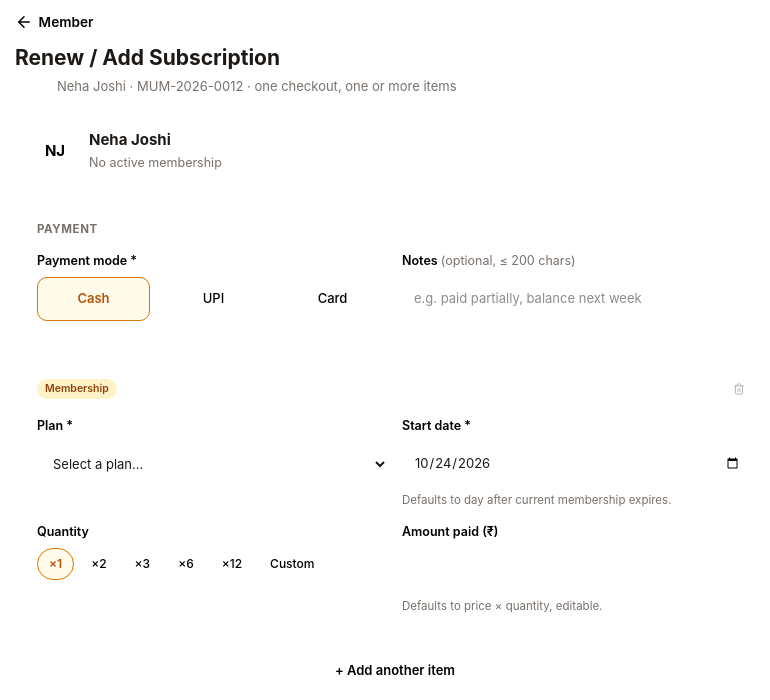
Scenario: RenewSubscriptionPage — an item › a quantity preset recalculates the amount and the end date
Step 1. Select "Monthly · 30 days · ₹1,500" in the dropdown labelled "Plan *" → (212, 464), box [37,442,388,486]
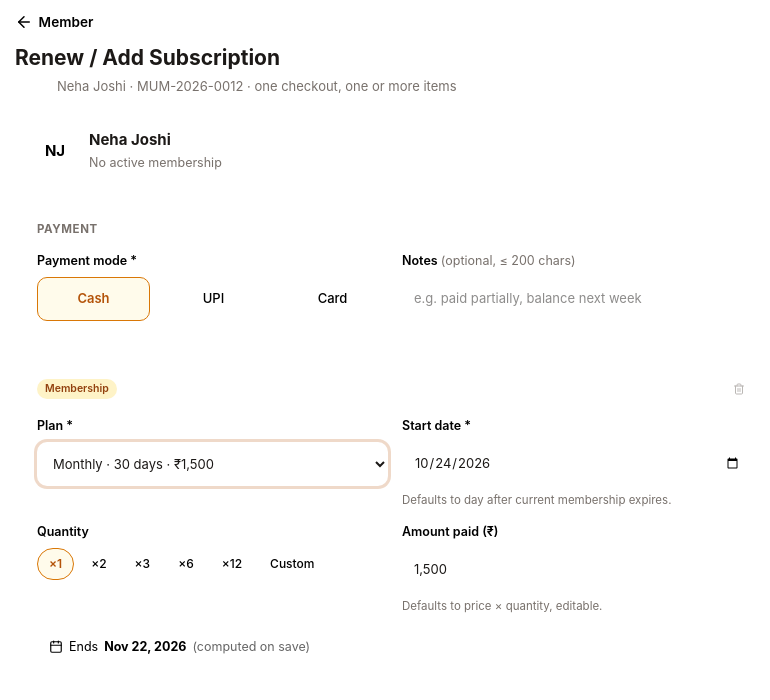
Step 2. Click the button "×3" → (142, 564), box [124,548,161,580]
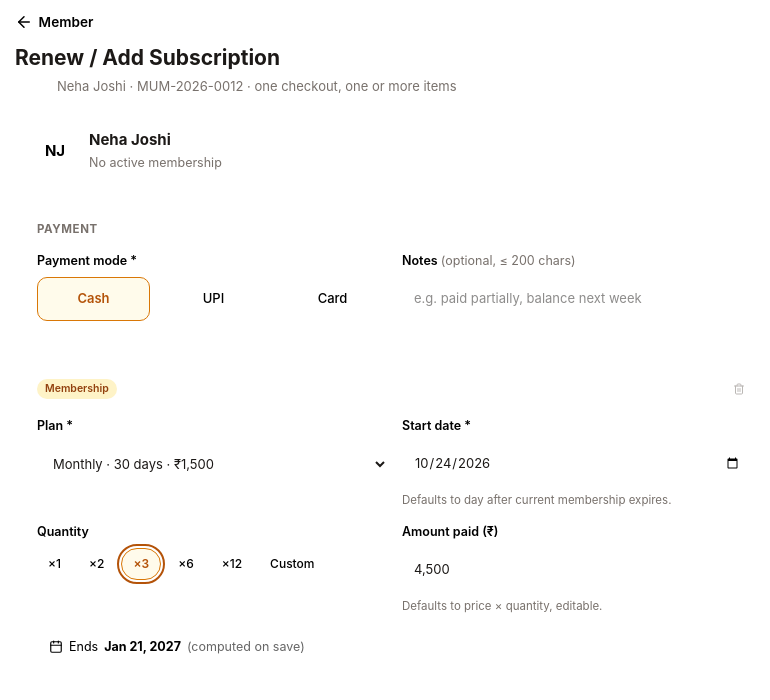
Check: the field labelled "Amount paid (₹)" holds "4,500", box [402,548,753,592]
